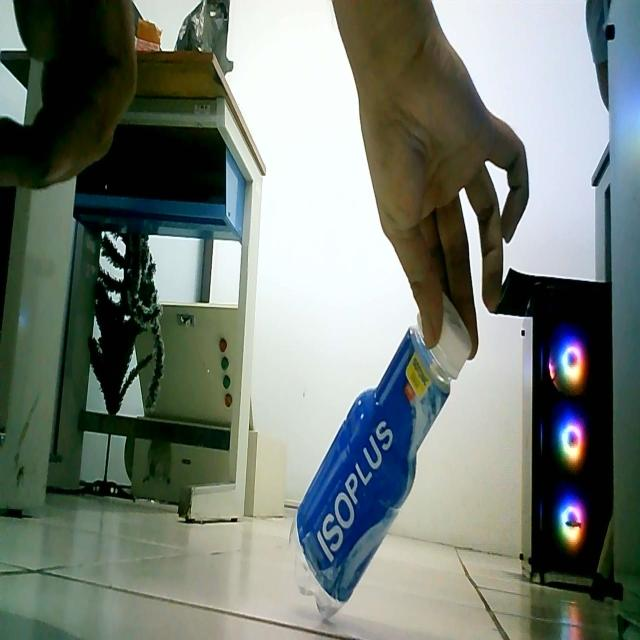botol: (272, 279, 476, 628)
